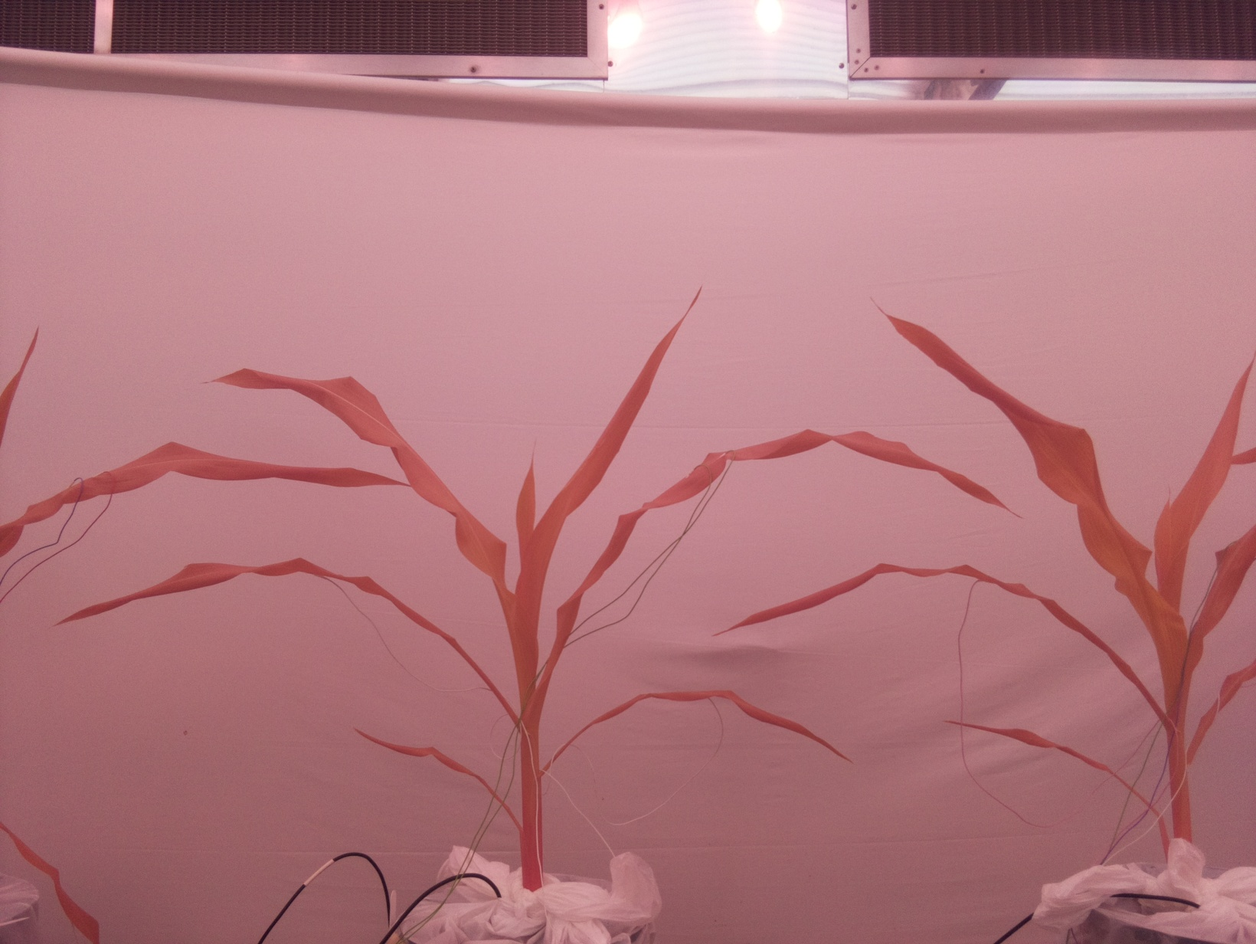maize: (53, 283, 1026, 896), (716, 297, 1256, 871), (0, 325, 406, 944)
